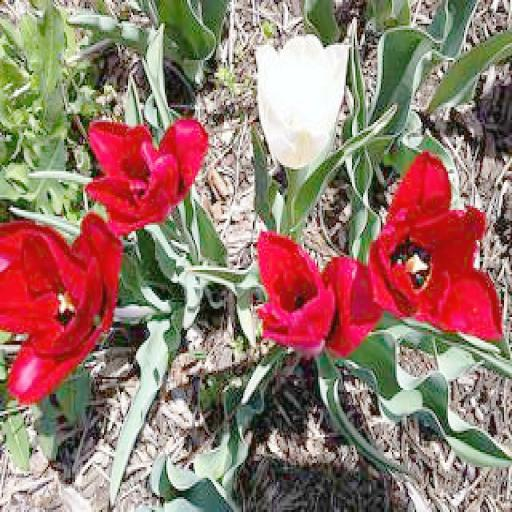tulip: (368, 150, 507, 345), (252, 229, 370, 362), (85, 116, 206, 234), (258, 34, 348, 170)
